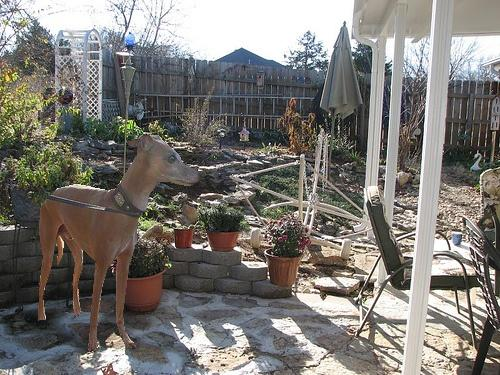tampered: (39, 136, 205, 352)
